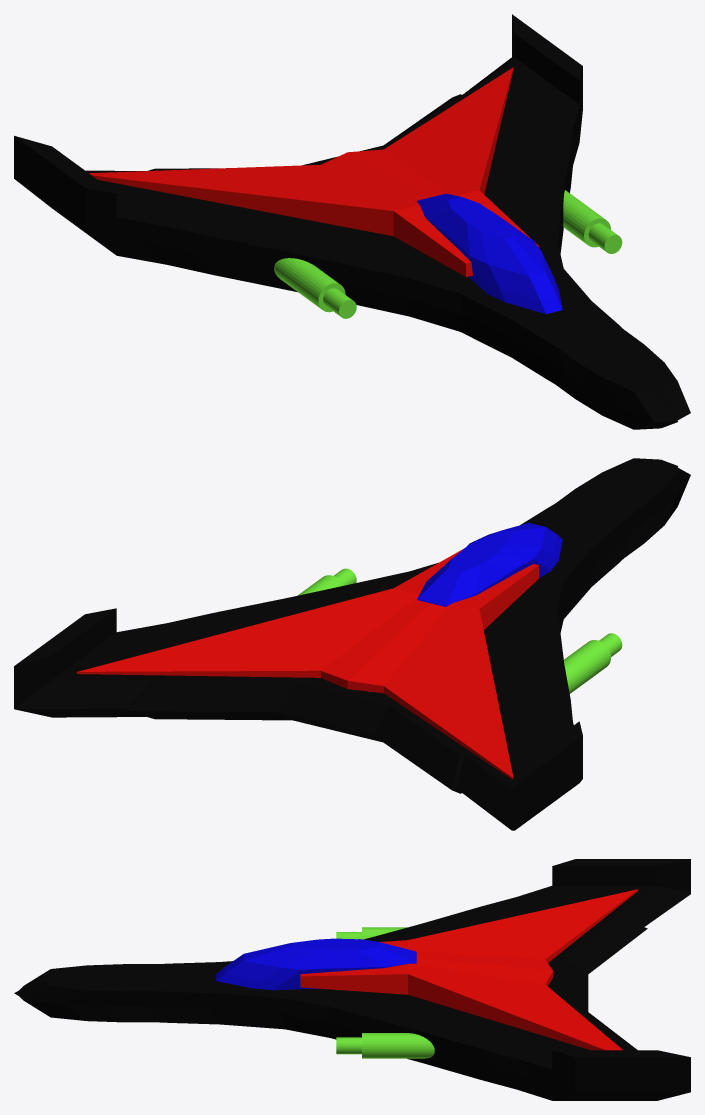
Rendered from SpaceFighterSeparated.fbx.
The picture shows the model from 3 angles, top to bottom: view 1: azimuth 30°, elevation 25°; view 2: azimuth 150°, elevation 25°; view 3: azimuth 270°, elevation 25°; orthographic projection. The views are drawn at different scales.
Visible parts, largest first — view 1: BottomChassis, Nose, Cockpit, RightThruster, LeftThruster; view 2: BottomChassis, Nose, Cockpit, RightThruster, LeftThruster; view 3: BottomChassis, Nose, Cockpit, LeftThruster, RightThruster.
Part boxes in pixels (x1,y1,x2,y2): BottomChassis: [14, 14, 611, 373]; Nose: [539, 318, 690, 429]; Cockpit: [417, 193, 562, 313]; RightThruster: [274, 258, 356, 318]; LeftThruster: [563, 190, 622, 253]; BottomChassis: [14, 513, 618, 830]; Nose: [539, 458, 690, 568]; Cockpit: [417, 523, 562, 606]; RightThruster: [564, 633, 622, 693]; LeftThruster: [298, 568, 356, 595]; BottomChassis: [168, 859, 690, 1100]; Nose: [14, 963, 182, 1023]; Cockpit: [216, 938, 416, 990]; LeftThruster: [336, 1033, 434, 1058]; RightThruster: [336, 927, 407, 939].
Bounding box in the file's own units: 652 × 98.44 × 942.
